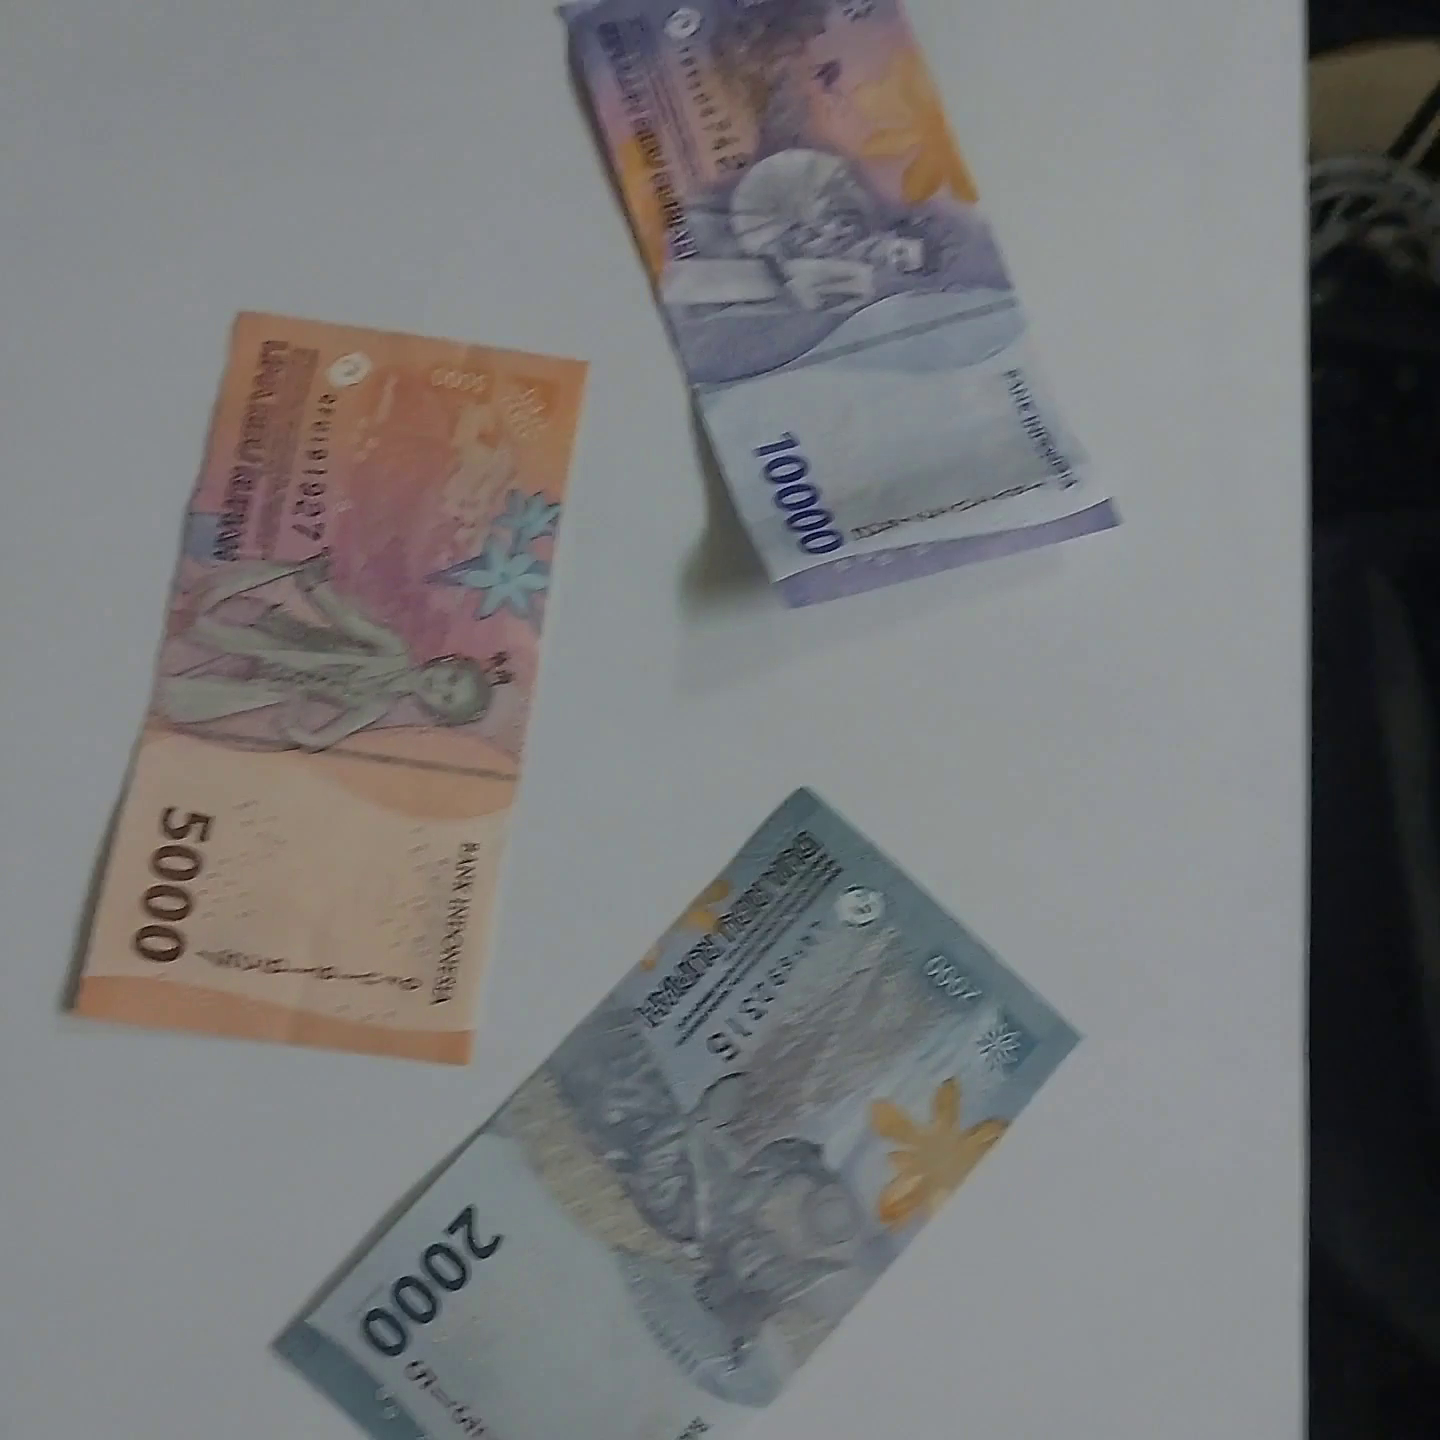10k: (546, 0, 1158, 695), (196, 305, 595, 1015)
2k: (247, 814, 1200, 1440)
